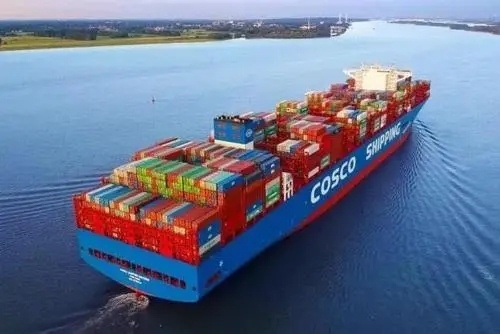Cargoship: (66, 58, 432, 305)
